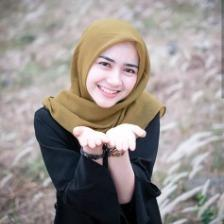Non Syar-i: (42, 16, 161, 138)
